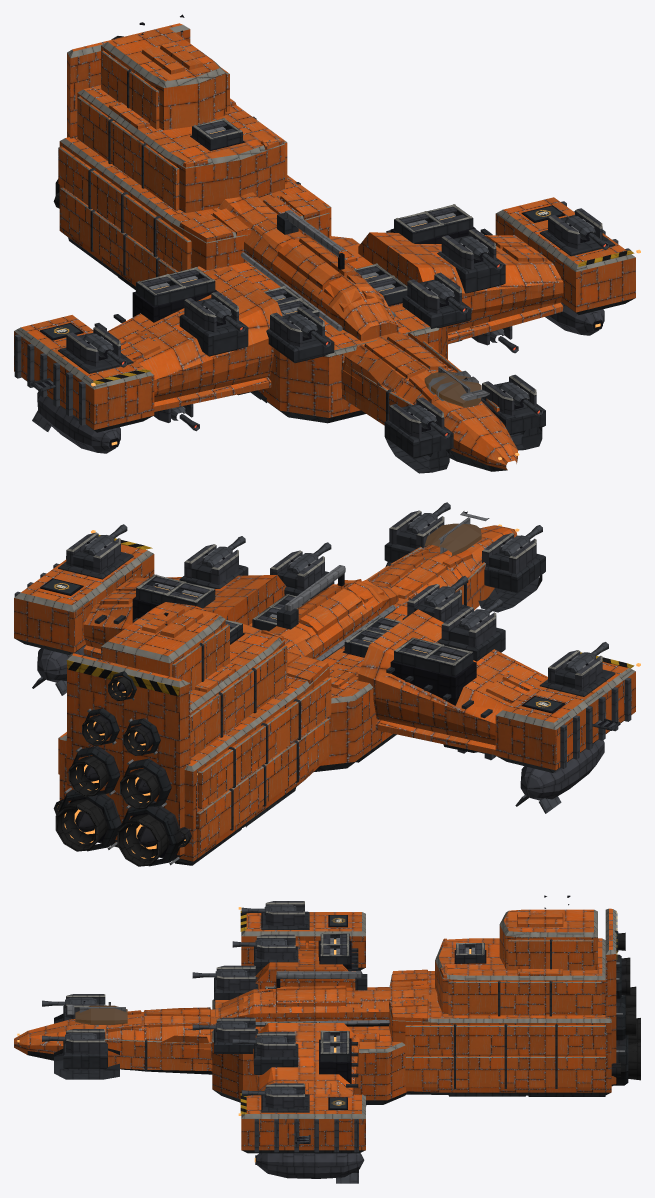
The model's file is saturn-schiff6.glb.
3 renders of one model, top to bottom at view 1: azimuth 30°, elevation 25°; view 2: azimuth 150°, elevation 25°; view 3: azimuth 270°, elevation 25°, orthographic. The views are drawn at different scales.
Parts seen in each view (by area): view 1: Hull_LOD0; view 2: Hull_LOD0, Laser_05, Laser_03, Laser_06, Laser_01, Laser_02, Laser_07, Laser_04, Laser_08; view 3: Hull_LOD0.
Boxes of the visible parts, x1,y1,x2,y2 form: Hull_LOD0: (14,14,640,473); Hull_LOD0: (14,510,640,866); Laser_05: (201,536,245,567); Laser_03: (287,542,331,573); Laser_06: (458,598,502,630); Laser_01: (406,502,450,533); Laser_02: (499,525,542,556); Laser_07: (83,524,127,555); Laser_04: (424,576,468,607); Laser_08: (565,642,608,673); Hull_LOD0: (14,895,640,1183).
Bounding box in the file's own units: 67.9 × 28.11 × 81.6.
6 materials, 4 textured.
